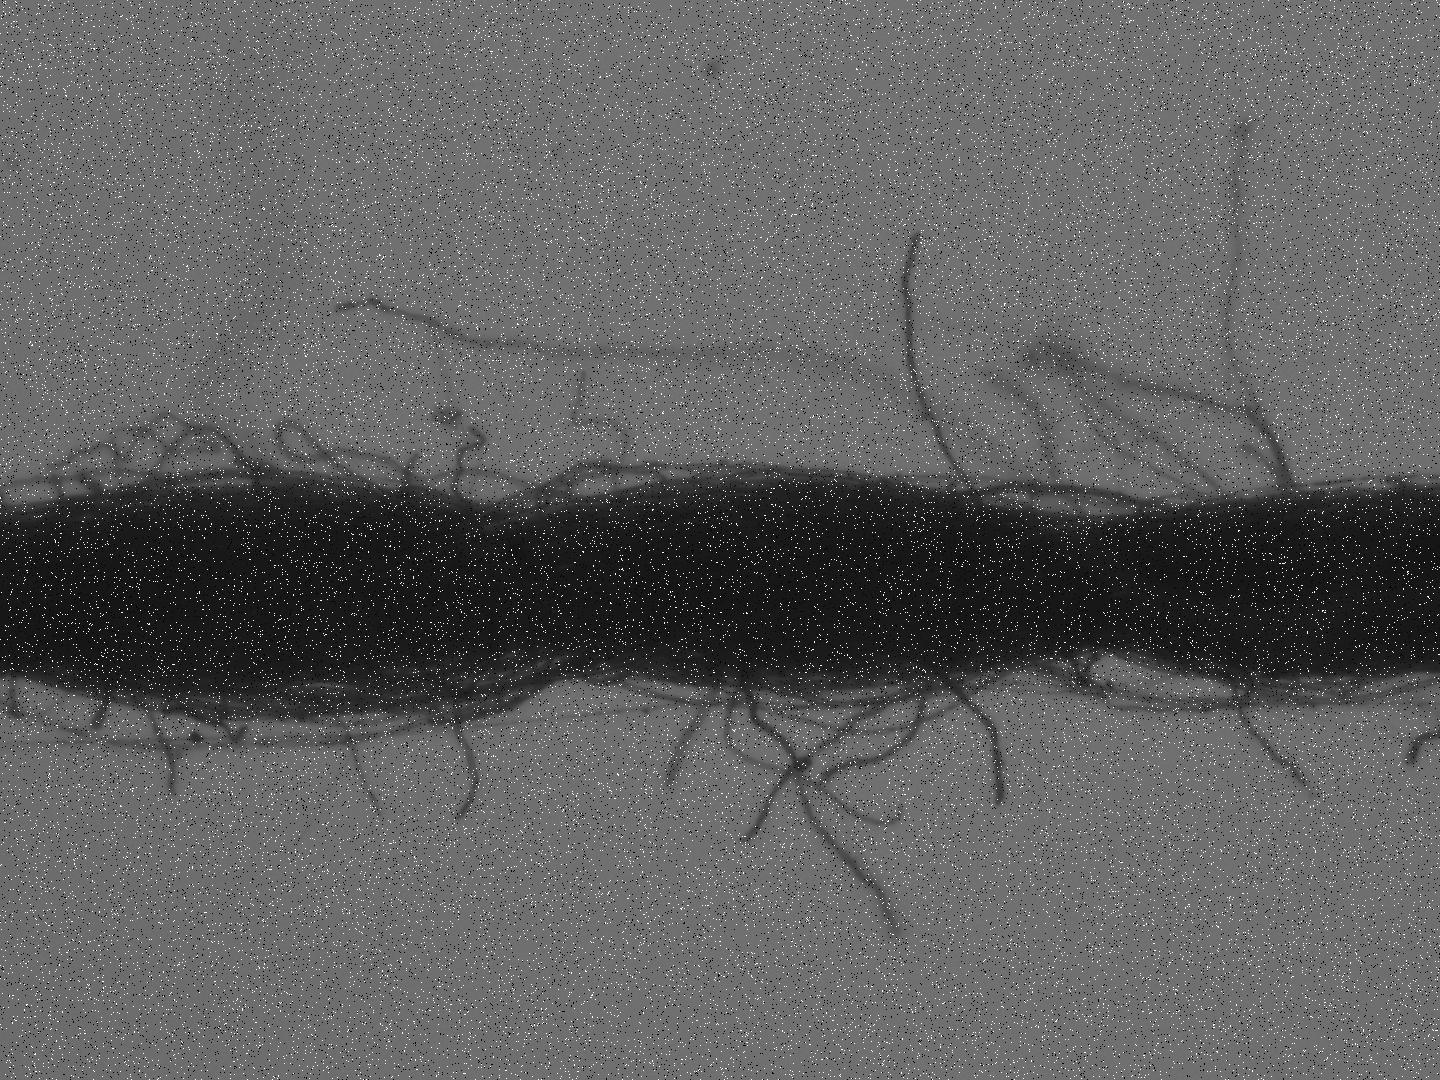loop_fiber: (270, 415, 455, 506), (1073, 644, 1268, 720), (934, 476, 1194, 529), (142, 421, 266, 505), (528, 456, 672, 525), (127, 672, 236, 742), (748, 669, 932, 709), (566, 642, 672, 695)
protruding_fiber: (895, 226, 997, 531), (920, 642, 1013, 816), (433, 668, 486, 833)
